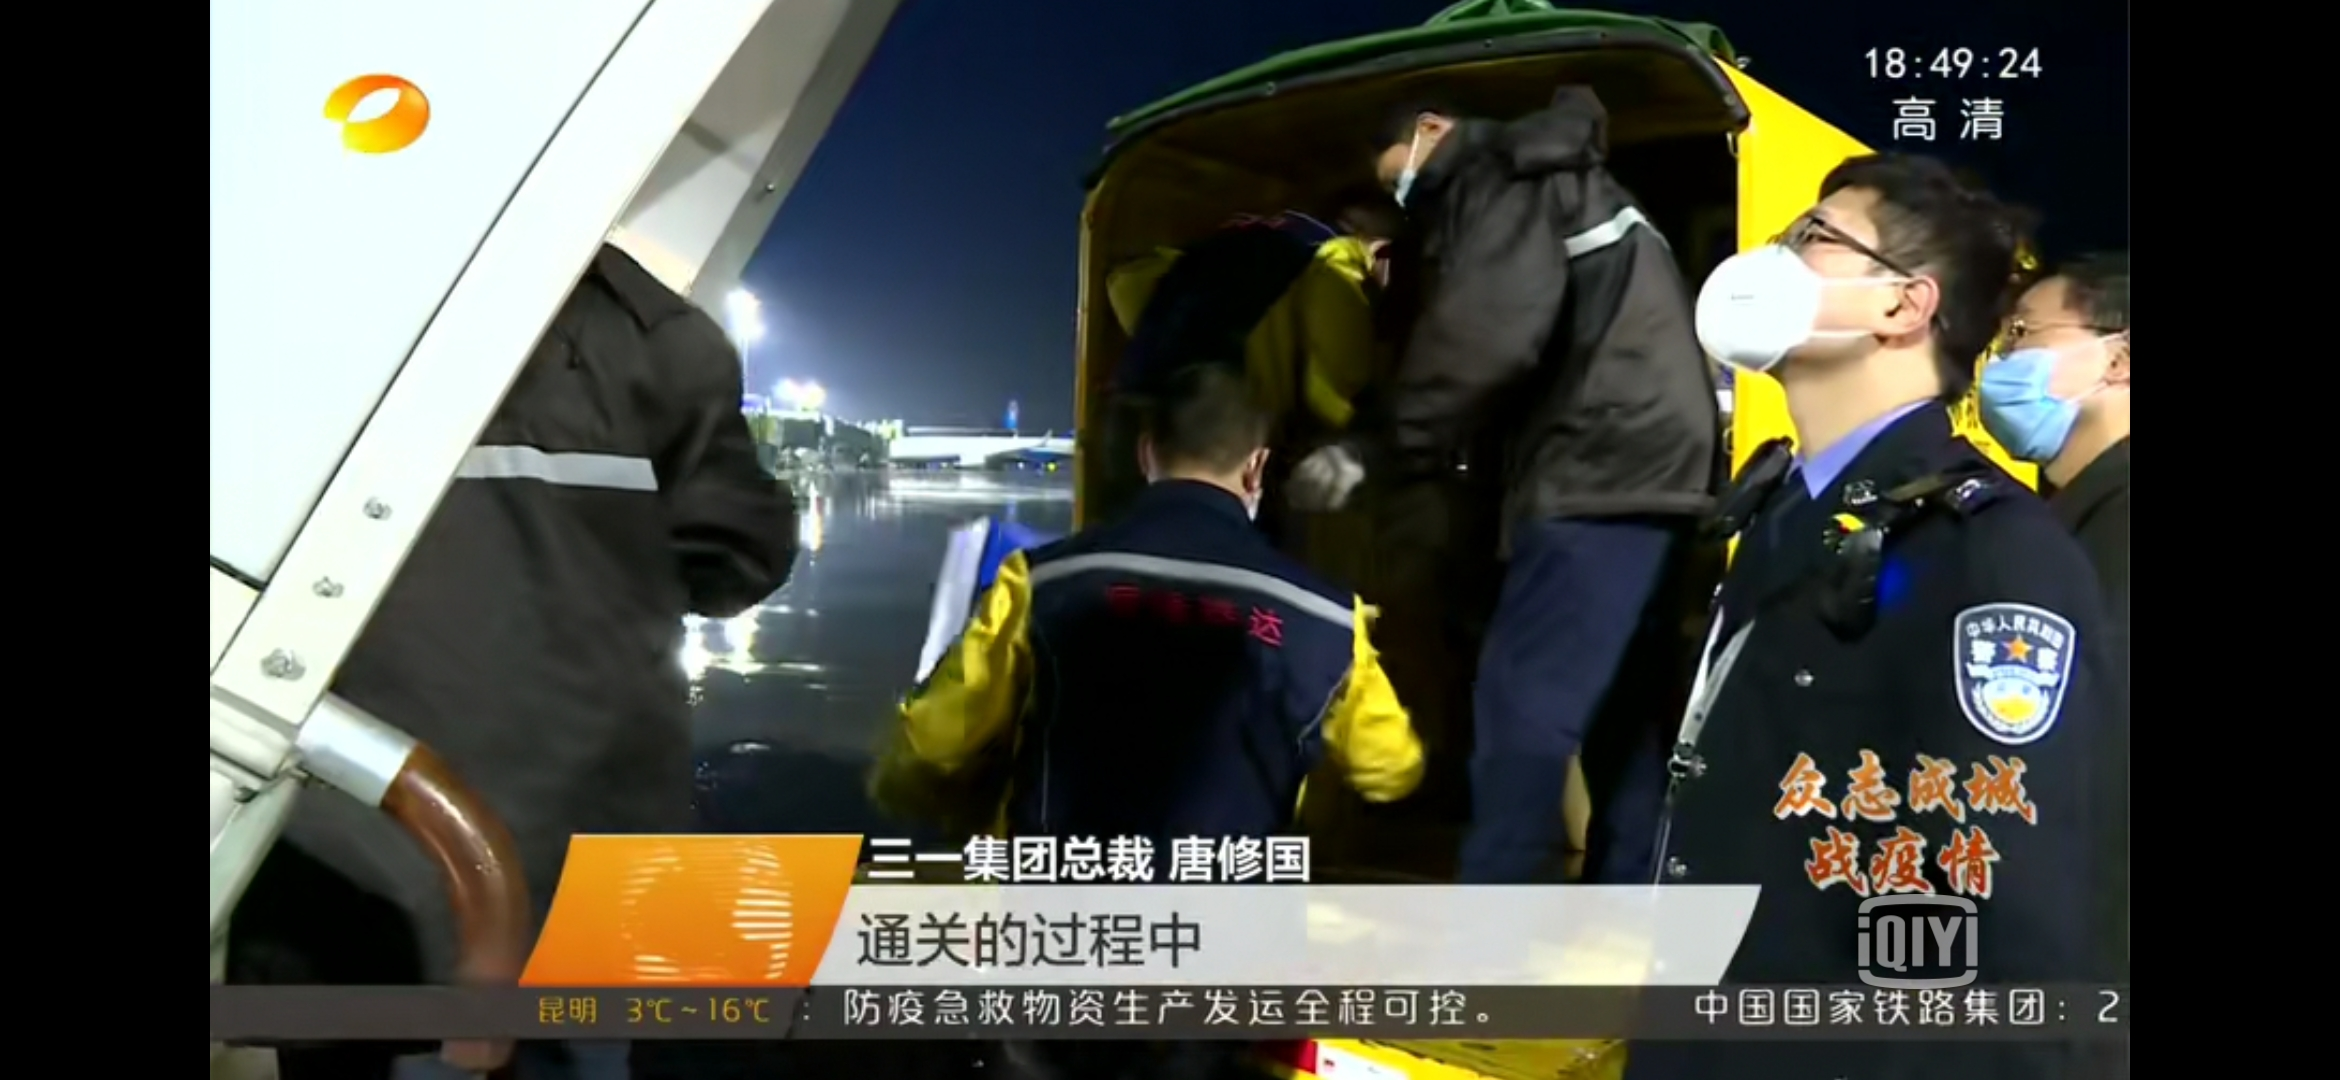correctlyWear: (1695, 203, 1936, 379), (1974, 301, 2130, 468), (1371, 101, 1448, 209)
